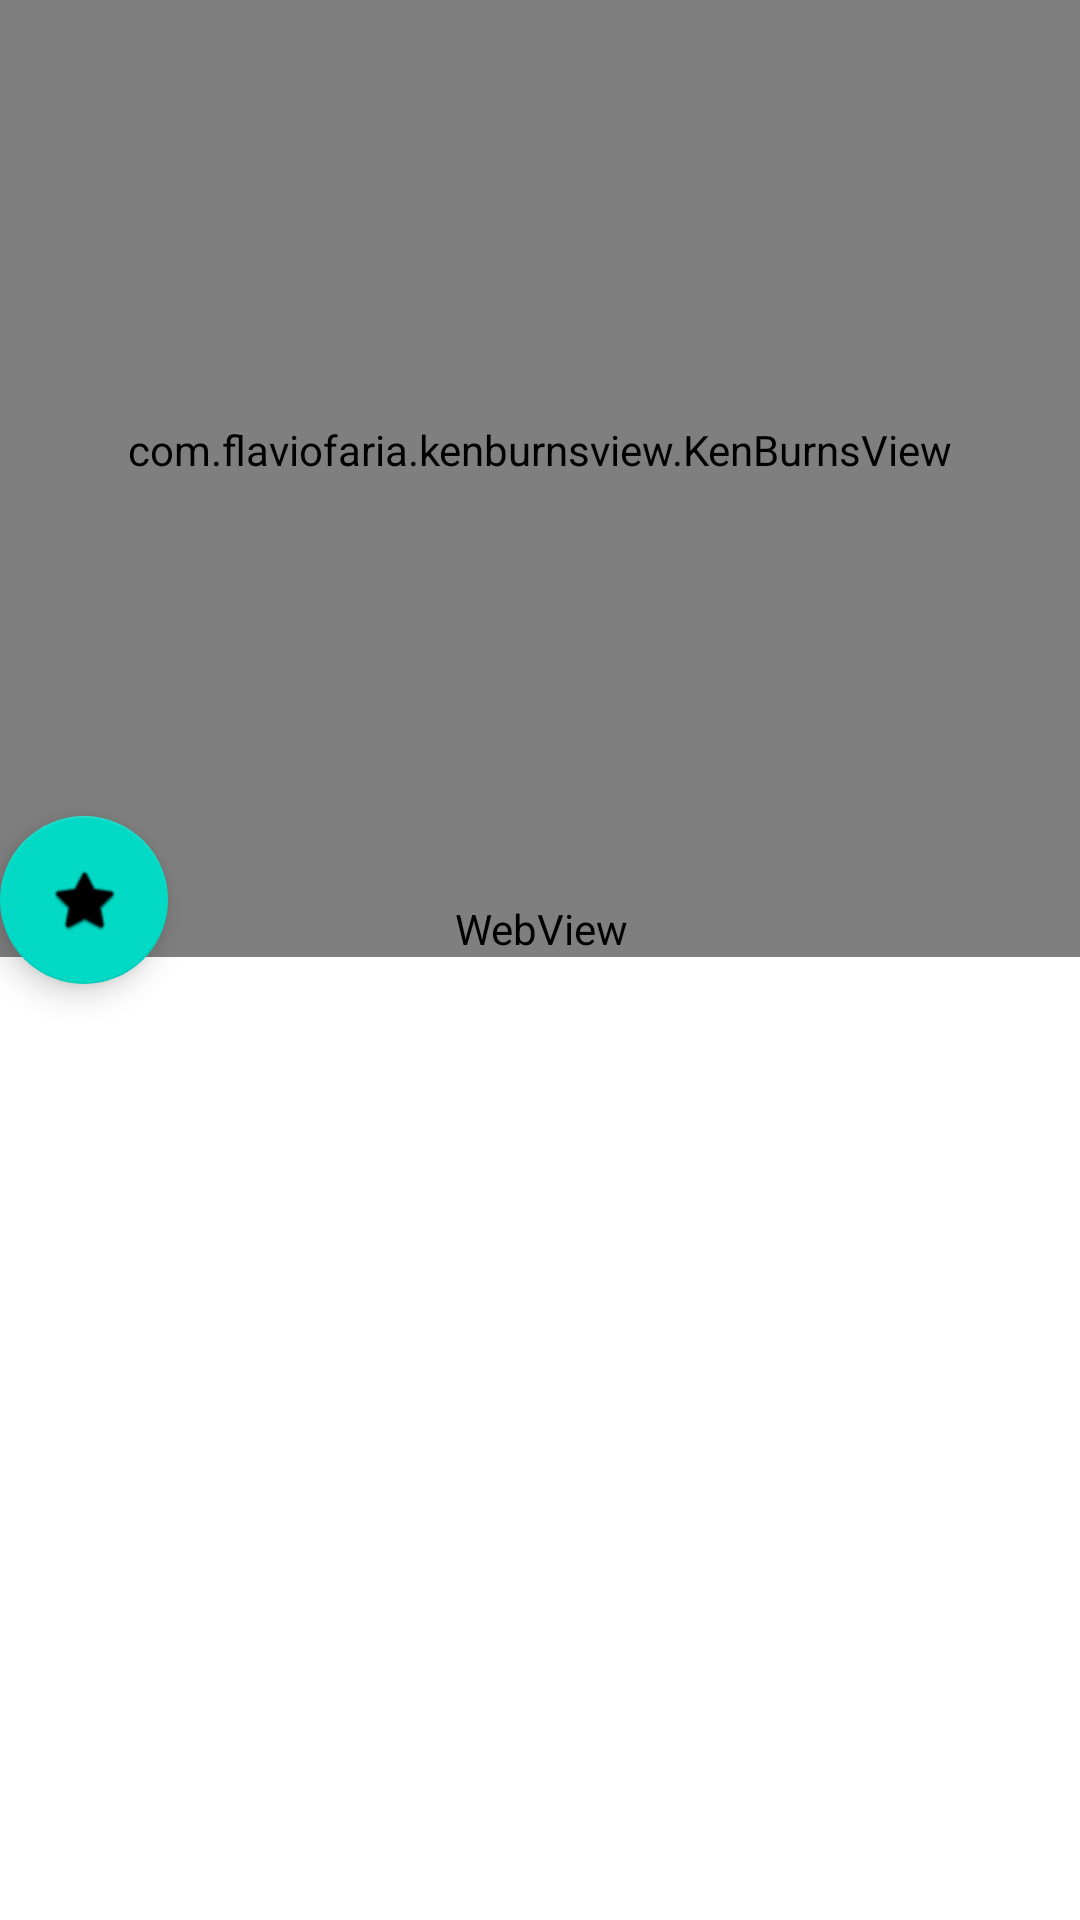

Named icons in this screenshot (1080 × 1920) and their bounding boxes, (x1, y1, x2, y2):
star off: (0, 816, 168, 984)
